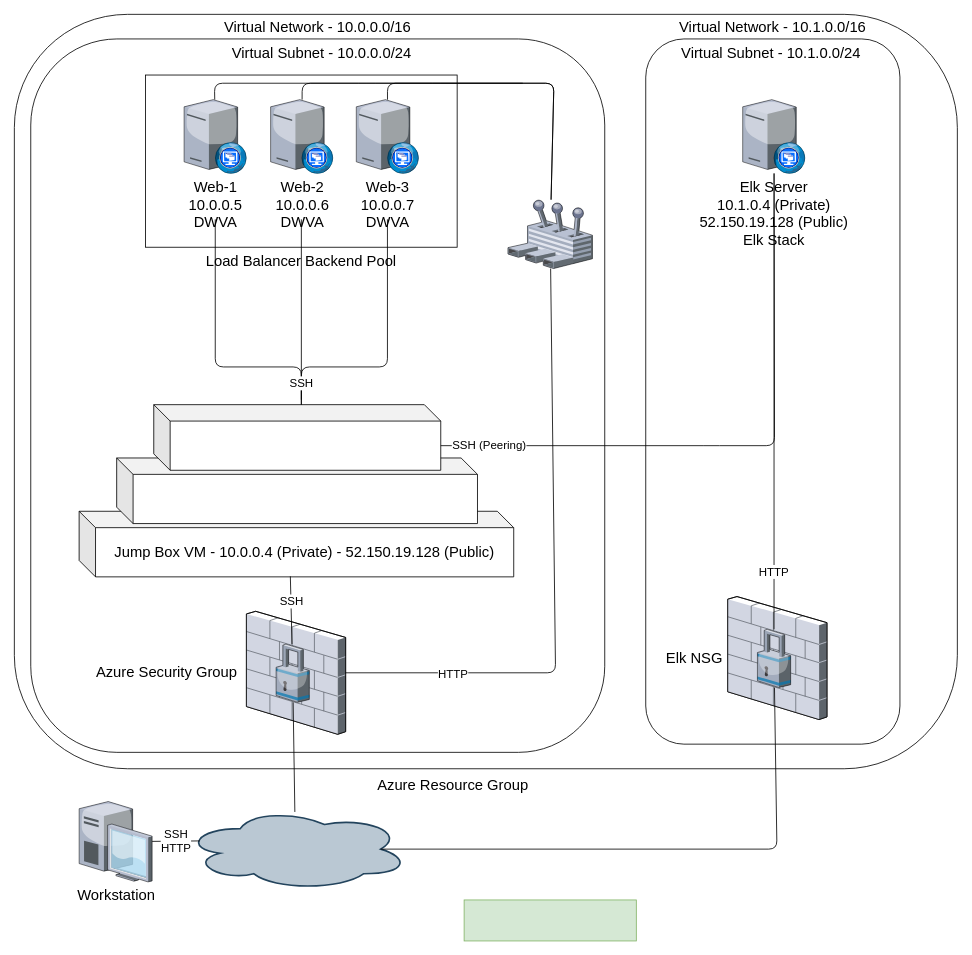
The diagram is 972 pixels wide and 955 high, and some of its shapes have lost their labels. The shapes that lost their labels are listed below. From the top down, each one's centre as x and y in pixels, then its label:
(550,233): Load Balancer 40.121.18.116
(297,437): Ansible
(296,490): Docker
(296,849): Internet
(549,920): Abdullah Lababidi
